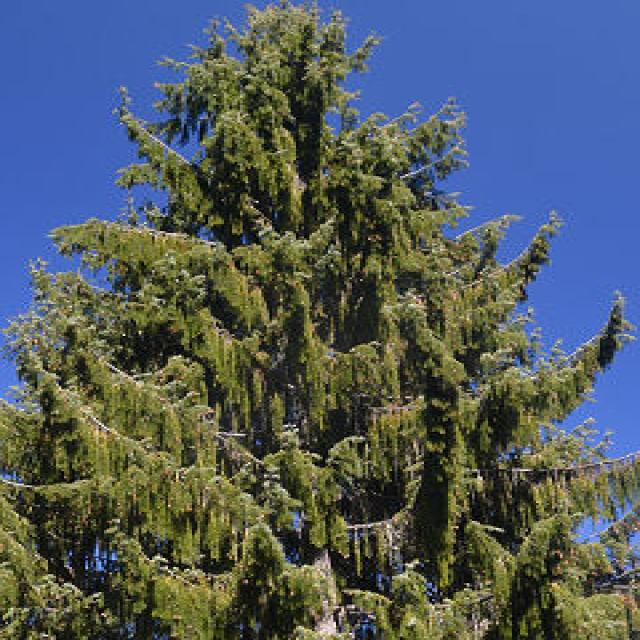Picea breweriana: (8, 1, 634, 638)
